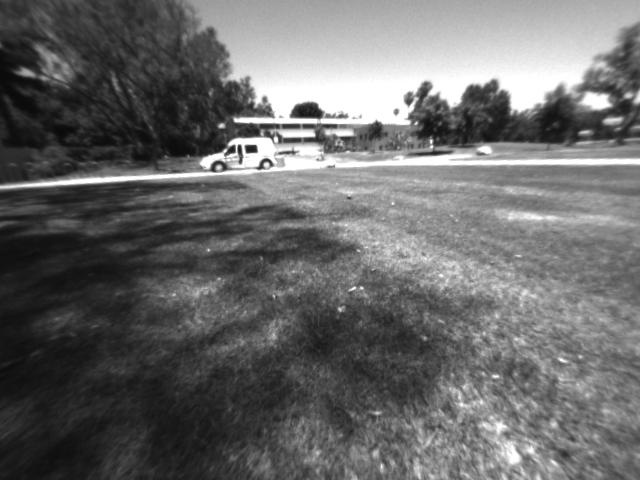dogtoy: (340, 188, 360, 203)
